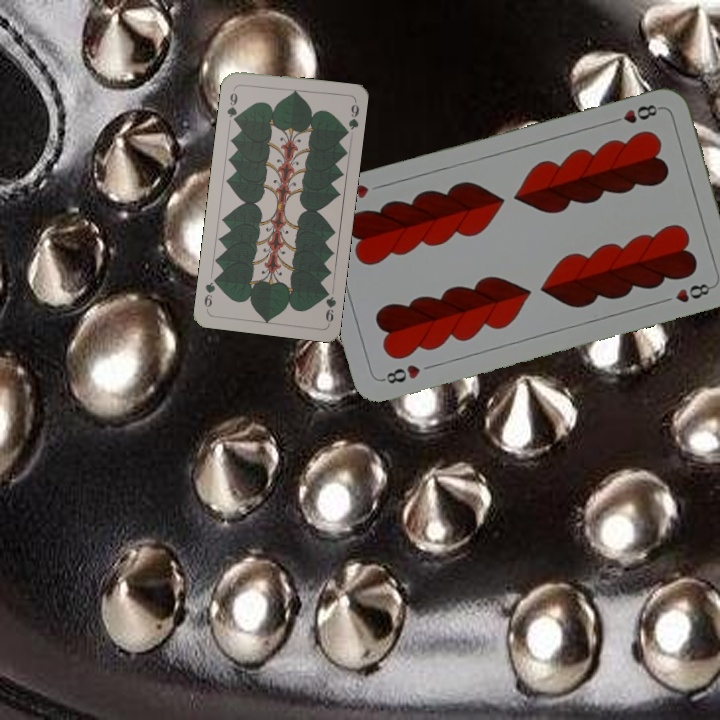G9: (320, 285, 339, 326), (223, 84, 240, 125)
H8: (606, 100, 664, 127), (378, 360, 423, 387)
